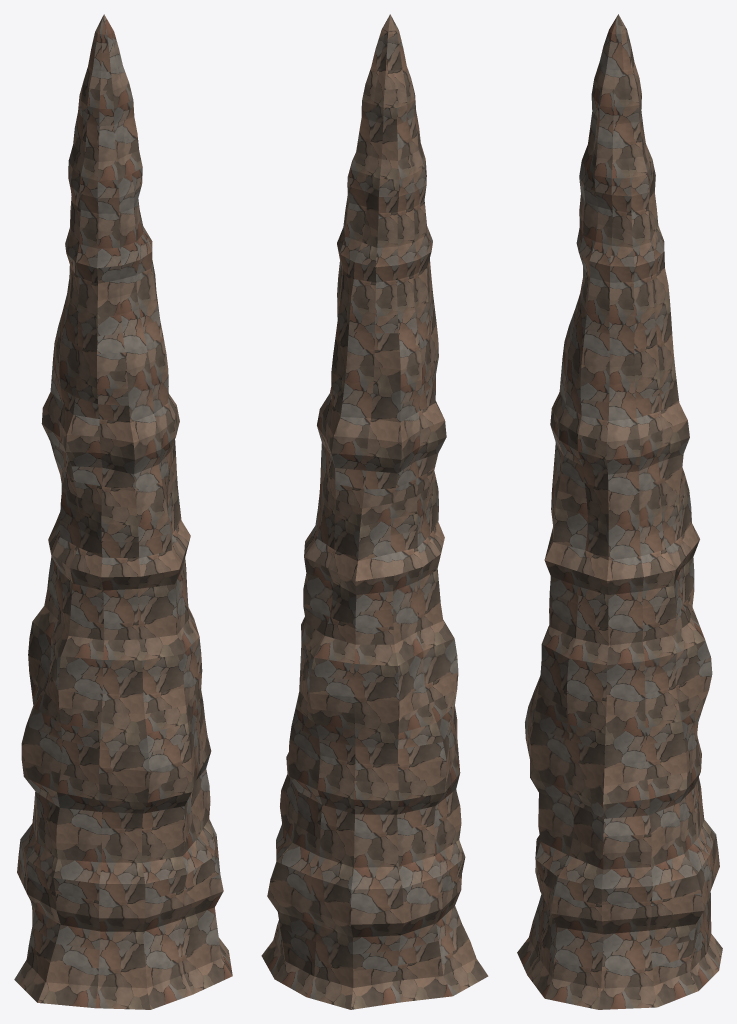
Rendered from CanyonSpireS.gltf.
3 renders of one model, left to right at view 1: azimuth 30°, elevation 25°; view 2: azimuth 150°, elevation 25°; view 3: azimuth 270°, elevation 25°, orthographic.
Parts seen in each view (by area): view 1: CanyonSpireS; view 2: CanyonSpireS; view 3: CanyonSpireS.
Part boxes in pixels (x1,y1,x2,y2): CanyonSpireS: [14, 14, 232, 1009]; CanyonSpireS: [261, 14, 488, 1009]; CanyonSpireS: [517, 14, 722, 1009].
Bounding box in the file's own units: 24.59 × 114 × 22.61.
1 material, 1 textured.
